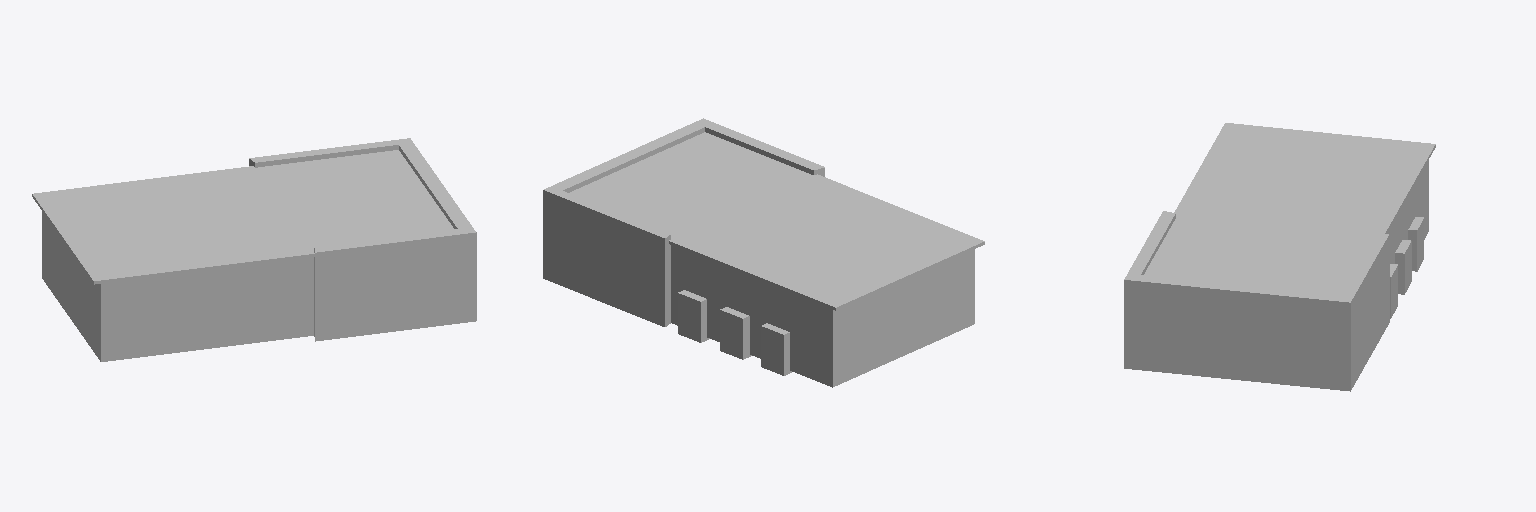
Rendered from jurassichouse_model_published.obj.
The picture shows the model from 3 angles: view 1: azimuth 30°, elevation 25°; view 2: azimuth 150°, elevation 25°; view 3: azimuth 270°, elevation 25°; orthographic projection.
Visible parts, largest first — view 1: Cube; view 2: Cube, Cube.002, Cube.001, Cube.003; view 3: Cube, Cube.002, Cube.003.
Boxes of the visible parts, box(x1,y1,x2,y2) form: Cube: box(32, 138, 476, 361); Cube: box(543, 118, 984, 387); Cube.002: box(720, 307, 751, 359); Cube.001: box(678, 290, 709, 342); Cube.003: box(761, 323, 791, 375); Cube: box(1124, 123, 1435, 391); Cube.002: box(1395, 240, 1411, 294); Cube.003: box(1408, 217, 1423, 271).
Bounding box in the file's own units: 27.62 × 6.38 × 19.67.